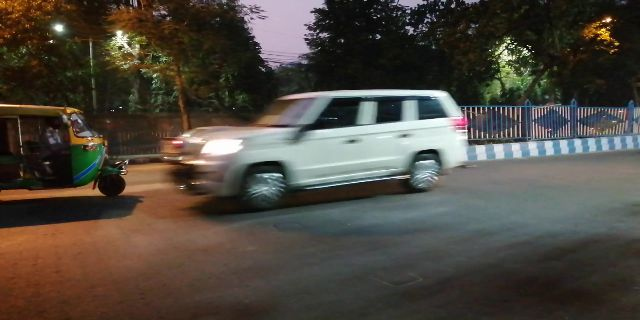Autorickshaw: (9, 103, 129, 205)
Van: (161, 88, 477, 201)
